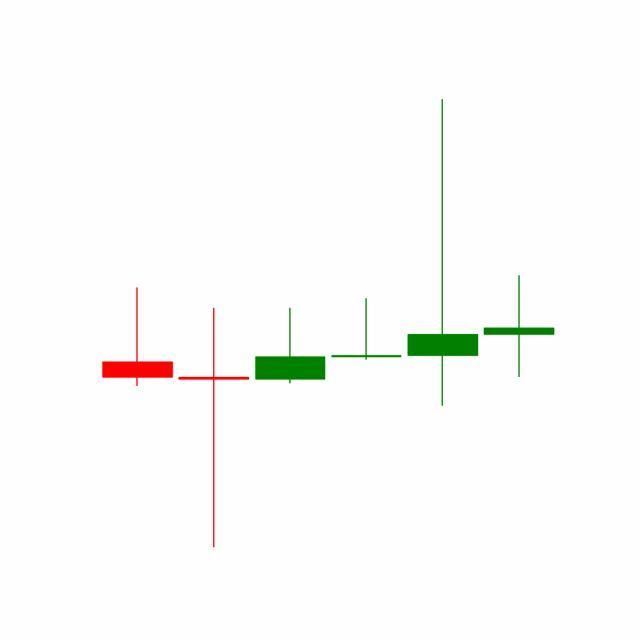Spinning Top: (404, 96, 482, 410)
